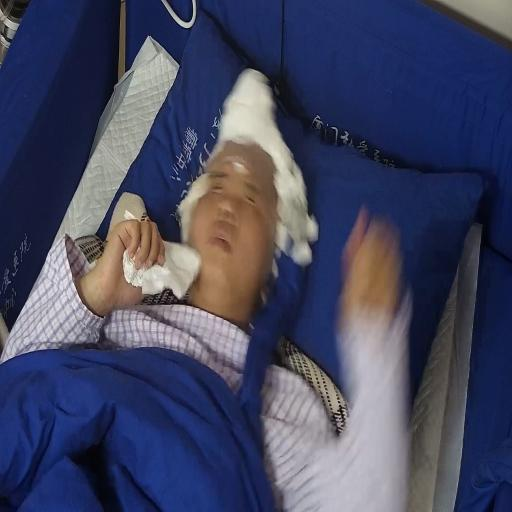Seizure: (187, 132, 275, 303)
